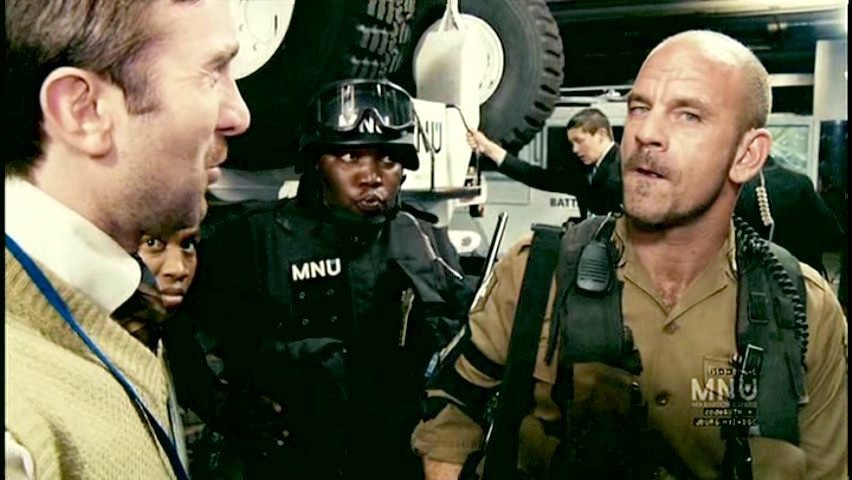bad: (597, 67, 726, 196)
